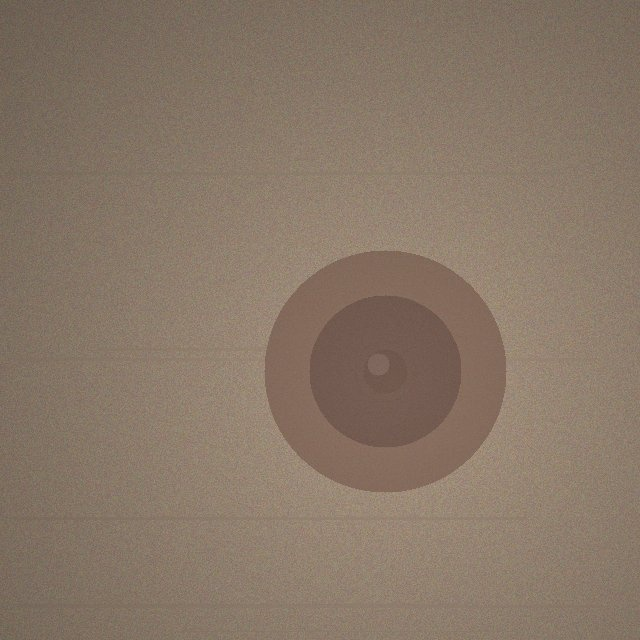good: (264, 250, 506, 492)
